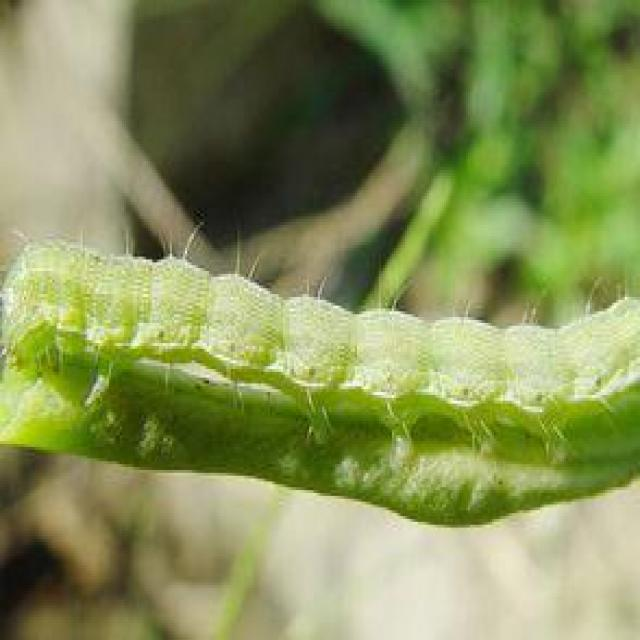BeetArmyWorm-Larva-: (2, 224, 638, 474)
